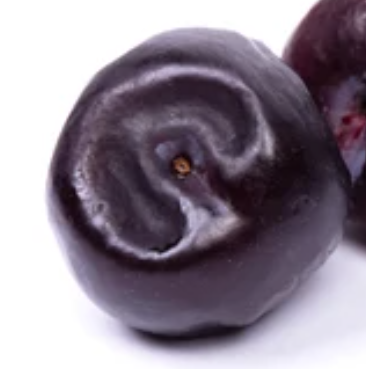plum_C: (44, 29, 347, 337)
